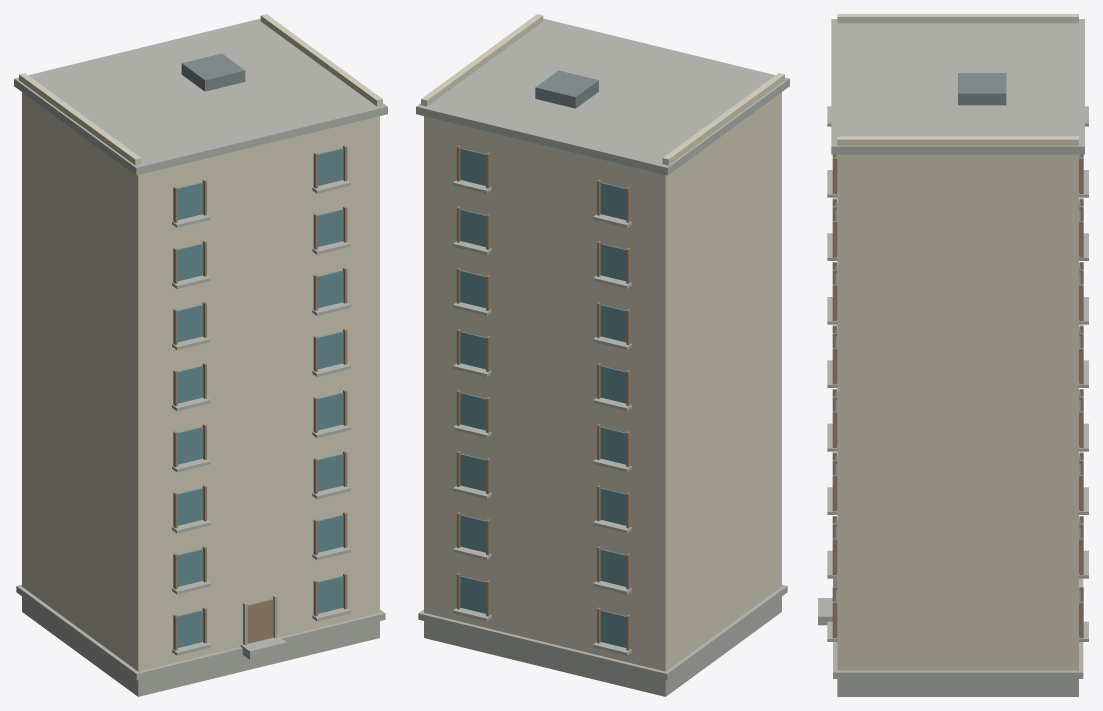
File: tower-0.glb
The picture shows the model from 3 angles, left to right: view 1: azimuth 30°, elevation 25°; view 2: azimuth 150°, elevation 25°; view 3: azimuth 270°, elevation 25°; orthographic projection. The views are drawn at different scales.
Bounding box in the file's own units: 6.25 × 12.9 × 5.61.
